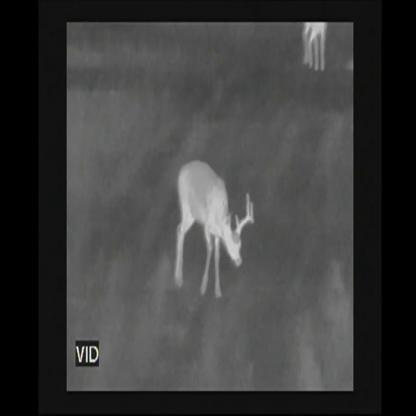rehkitze: (173, 151, 256, 302), (299, 23, 329, 76)
